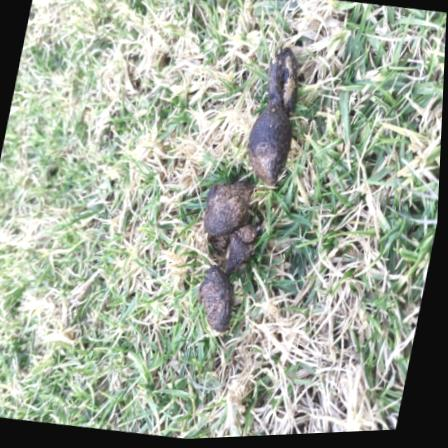dog-poop: (181, 43, 316, 348)
